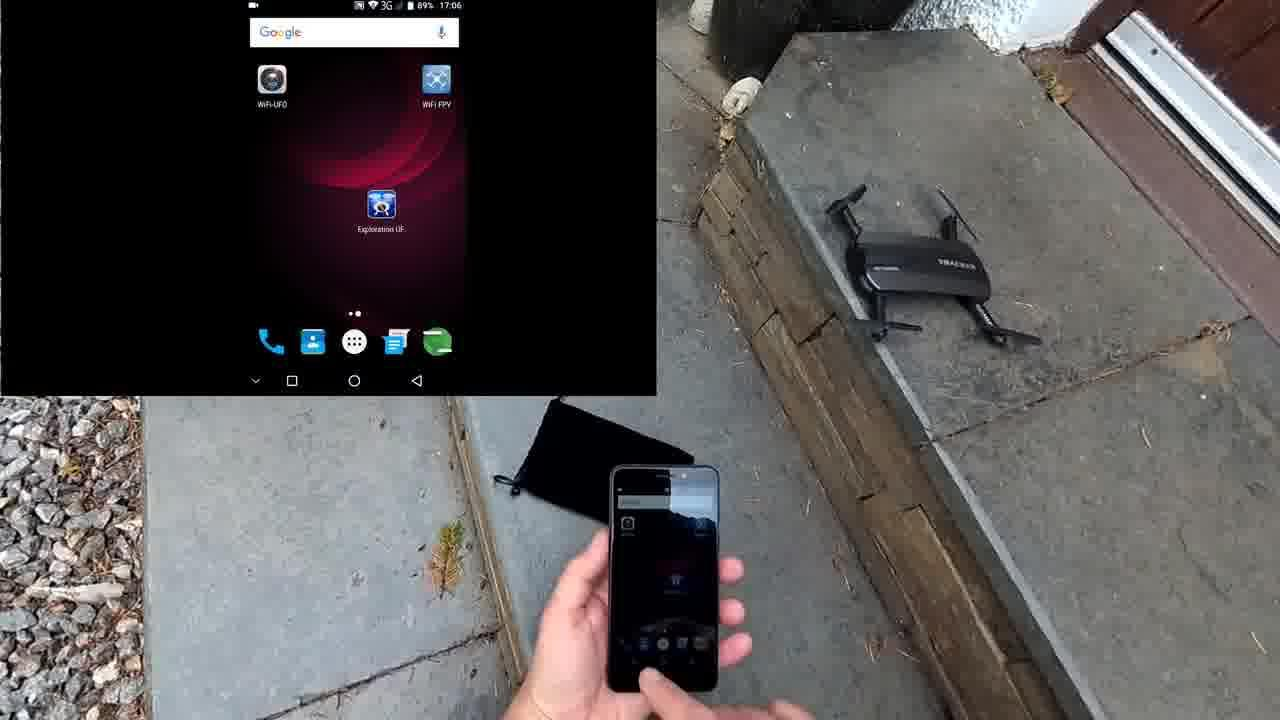drone: (823, 175, 1062, 368)
